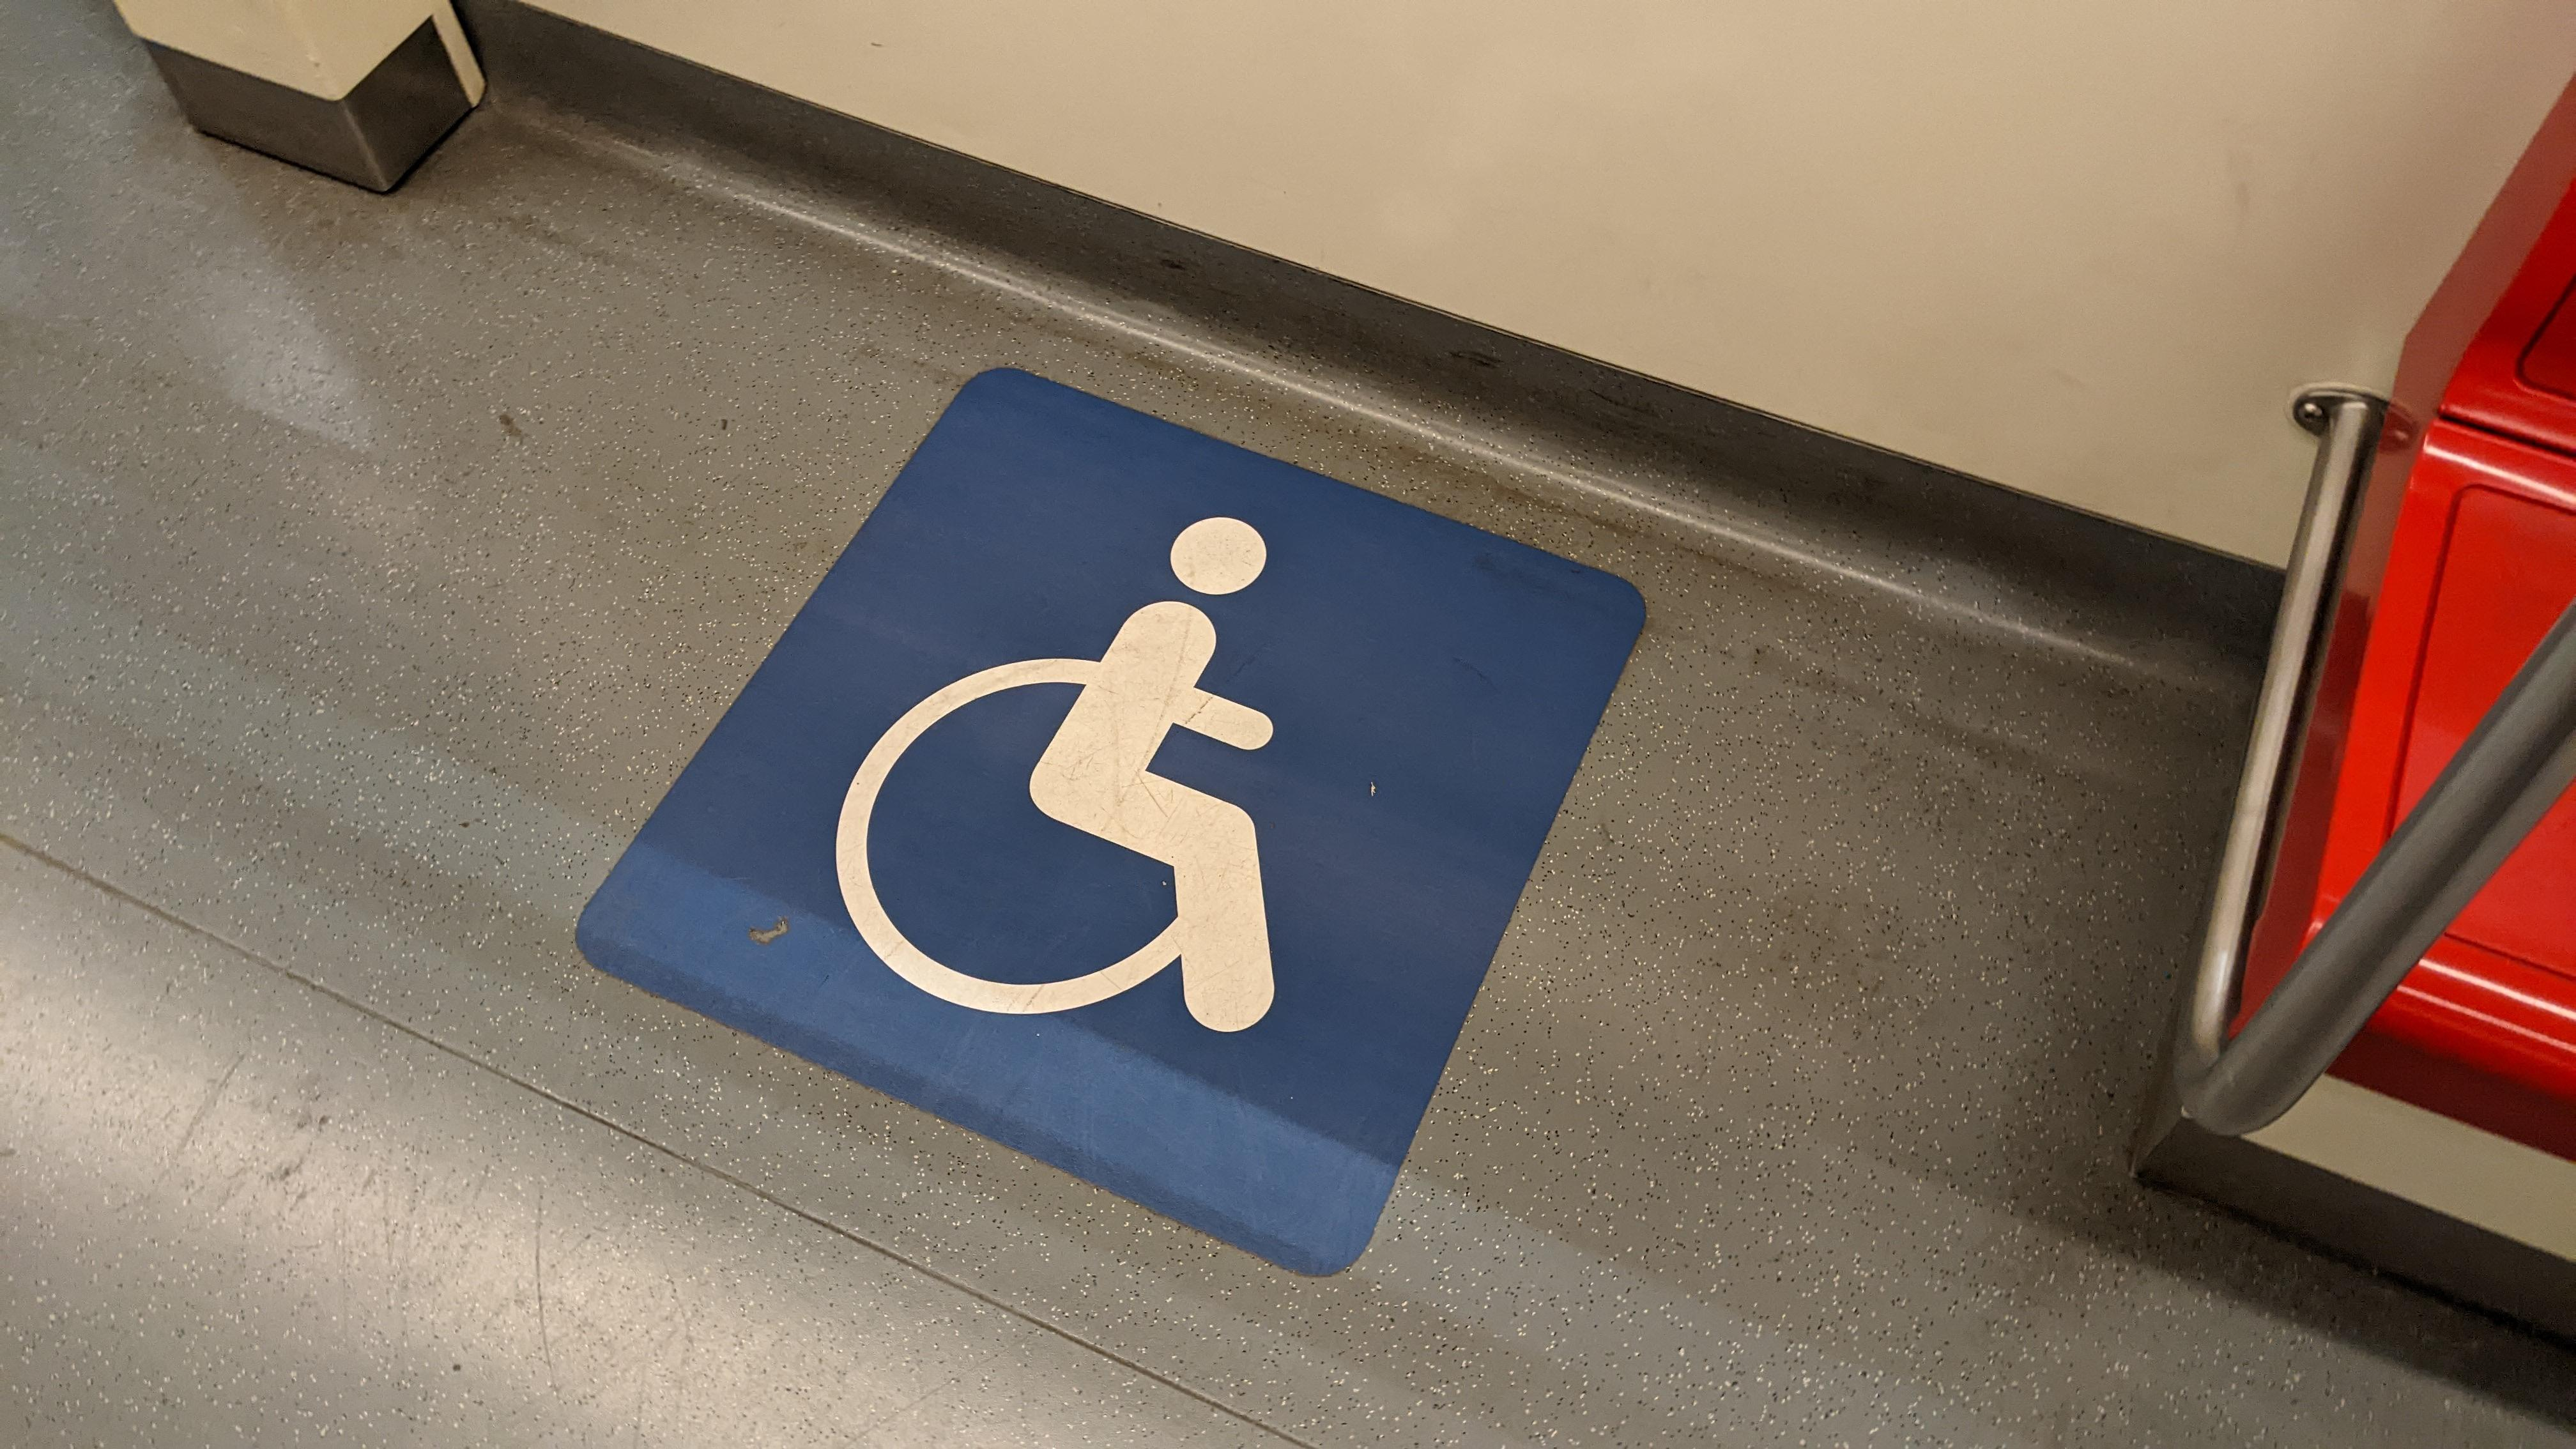handicapped symbol: (824, 513, 1304, 1037)
